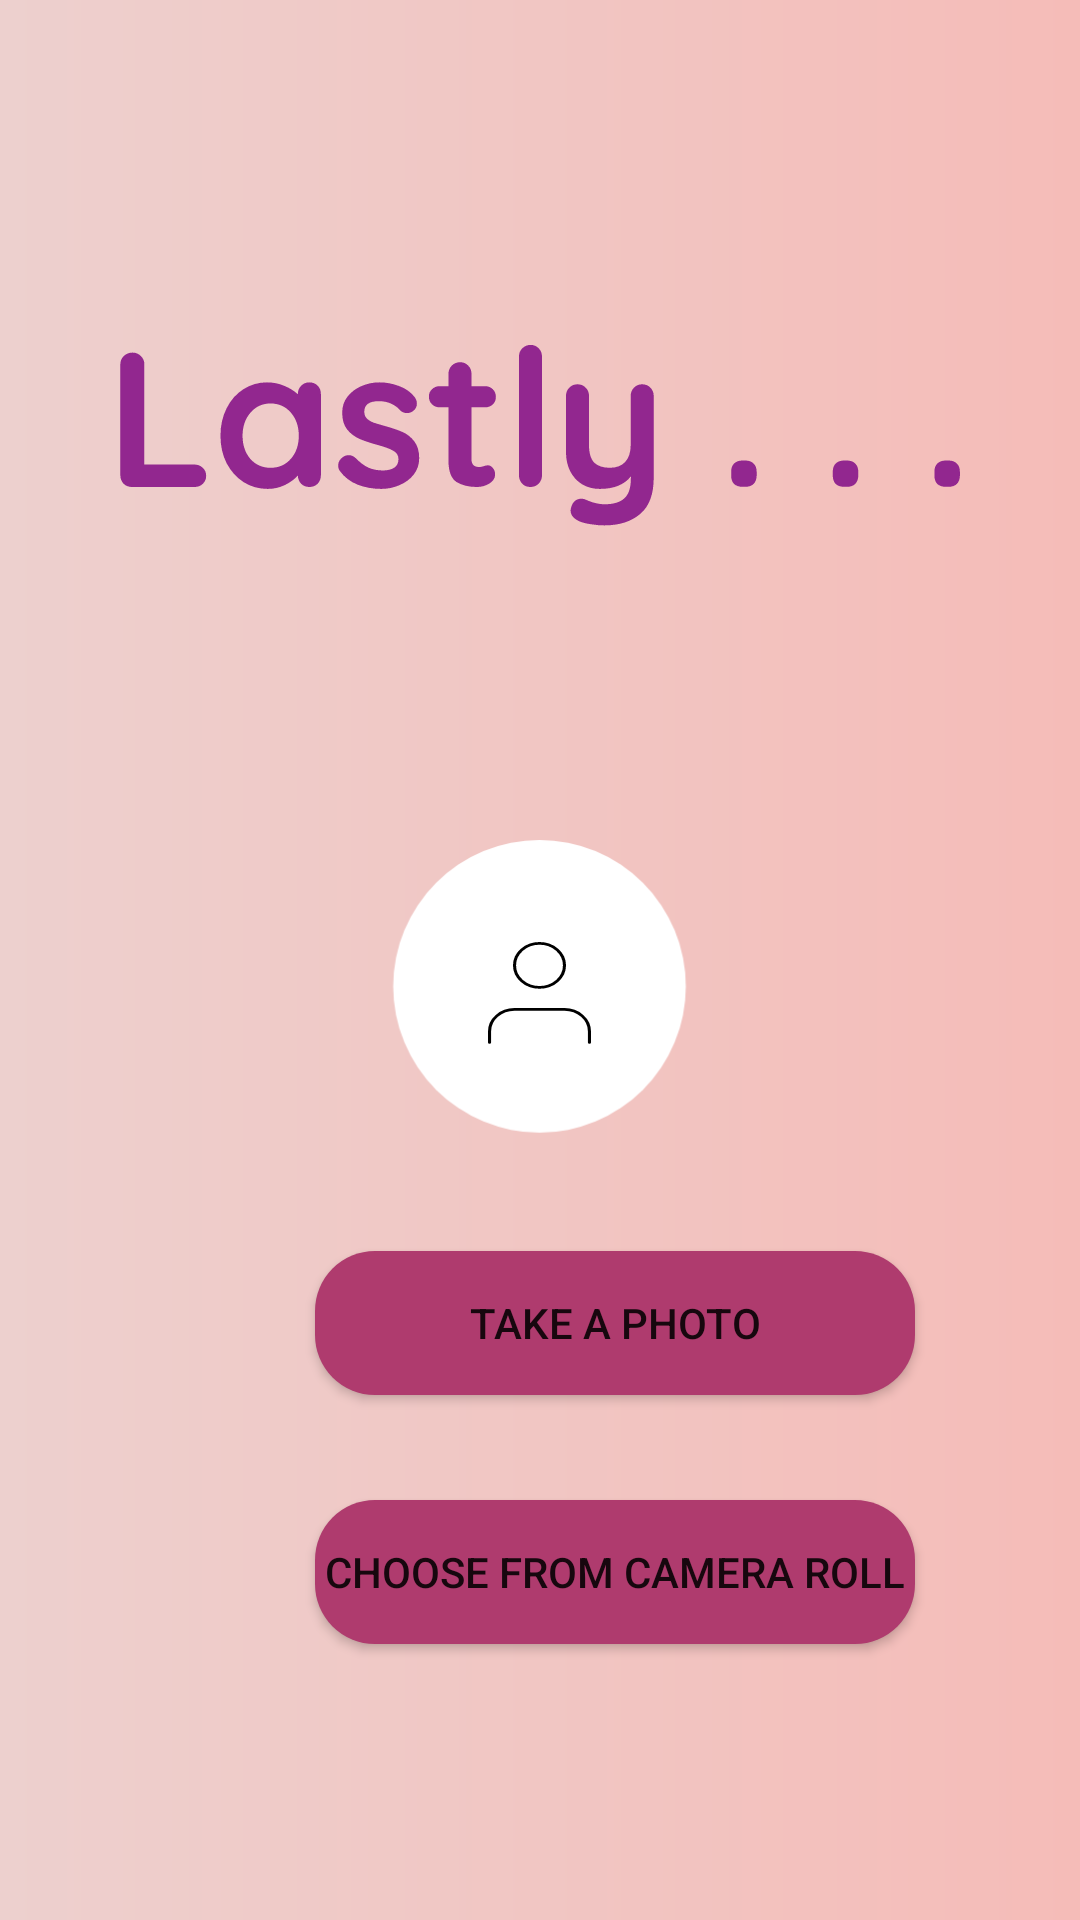

Named icons in this screenshot (1080×1920) and their bounding boxes, (x1, y1, x2, y2):
profilepic: (393, 840, 686, 1133)
